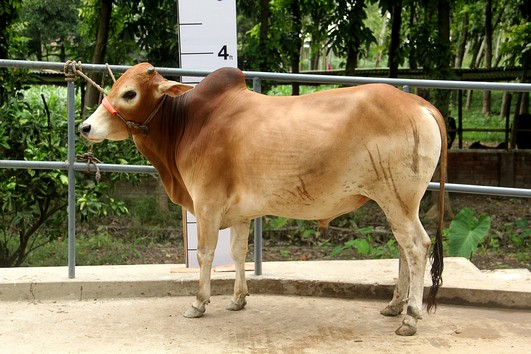cow: (73, 53, 450, 340)
